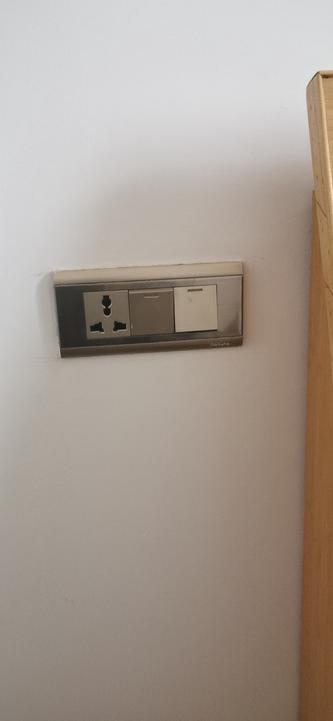switch: (175, 285, 223, 333), (127, 288, 173, 333)
